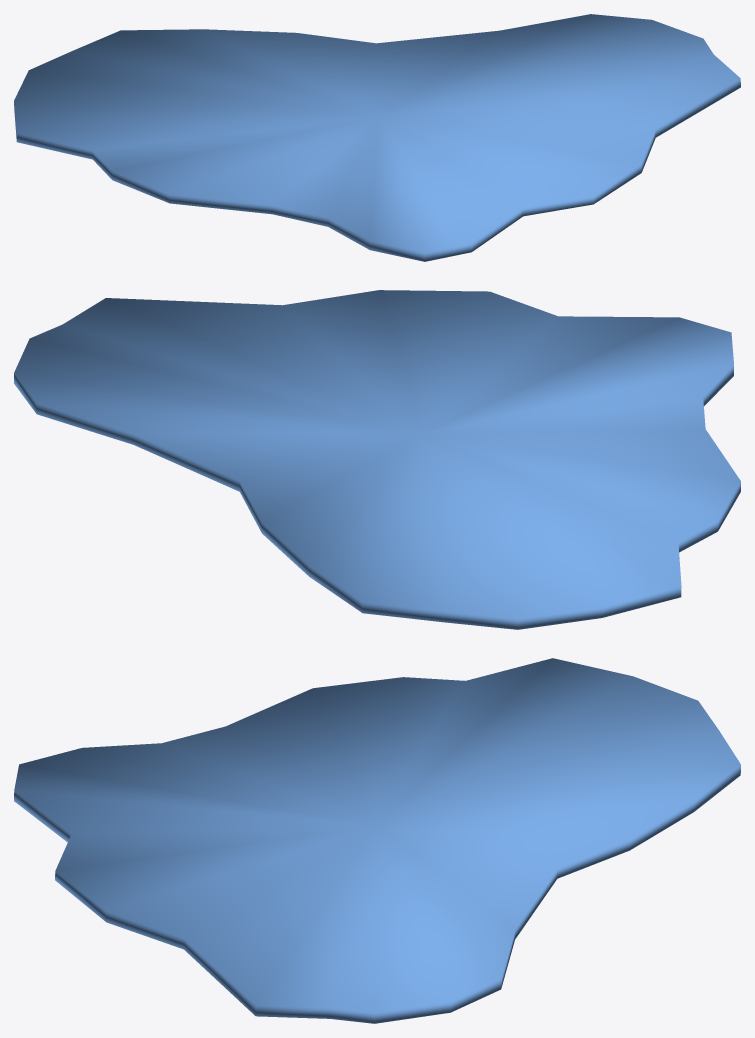
The model's file is puddle5.fbx.
3 renders of one model, top to bottom at view 1: azimuth 30°, elevation 25°; view 2: azimuth 150°, elevation 25°; view 3: azimuth 270°, elevation 25°, orthographic. The views are drawn at different scales.
Visible parts, largest first — view 1: Circle; view 2: Circle; view 3: Circle.
Boxes of the visible parts, x1=… form: Circle: x1=14, y1=14, x2=740, y2=261; Circle: x1=14, y1=290, x2=740, y2=629; Circle: x1=14, y1=658, x2=740, y2=1023.
Size of the model in its own units: 510 by 7.7 by 442.
